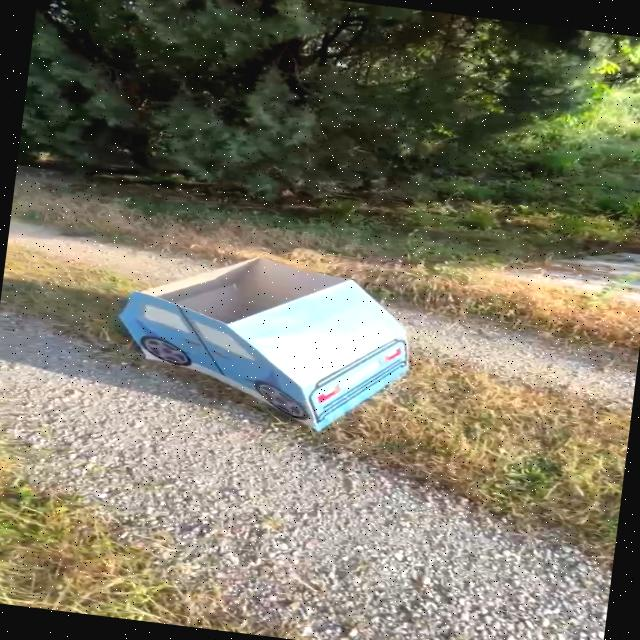blue_car: (88, 227, 455, 455)
